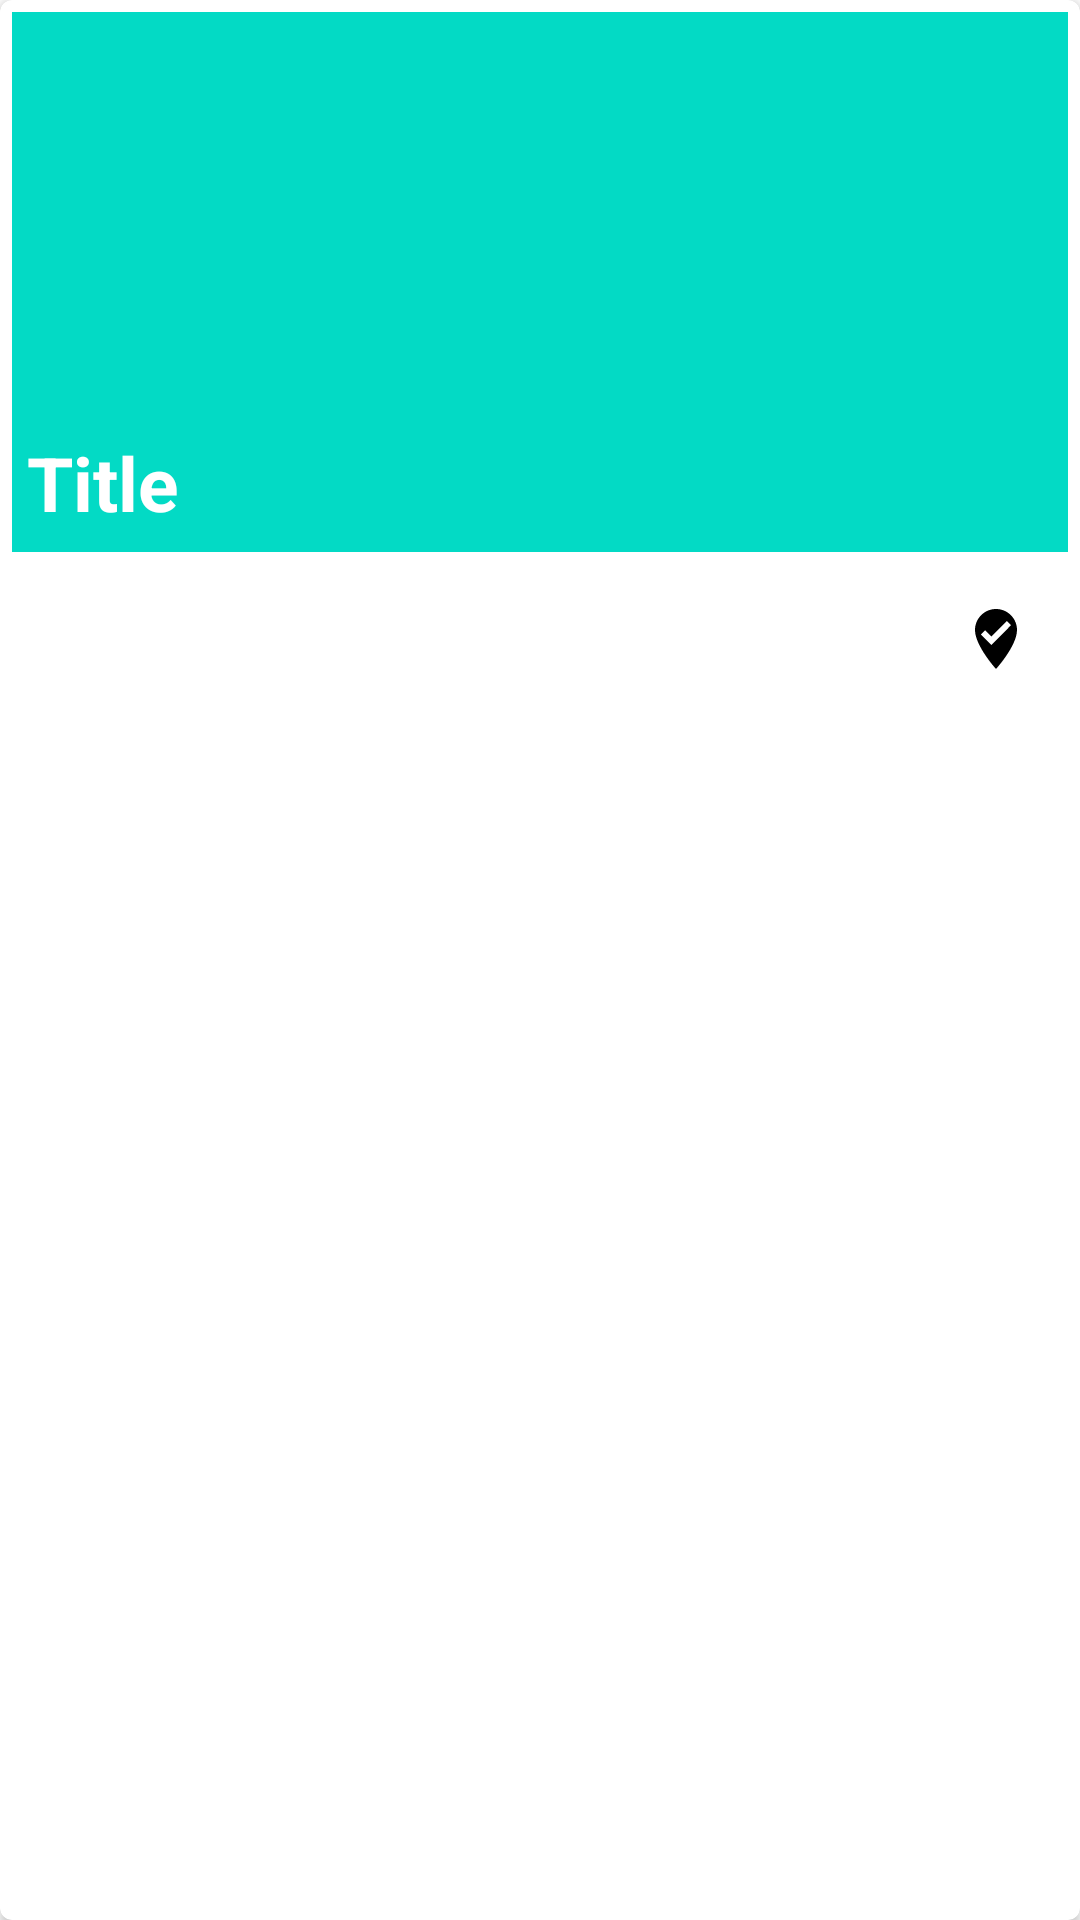

Icons on this 1080*1920 Android screen, each with the point to tap as (x=x, y=y):
status: (x=996, y=639)
